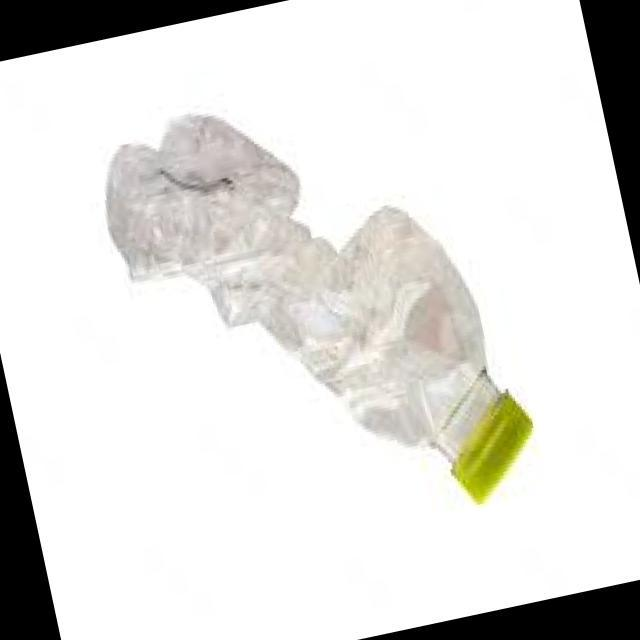defected: (82, 52, 556, 575)
